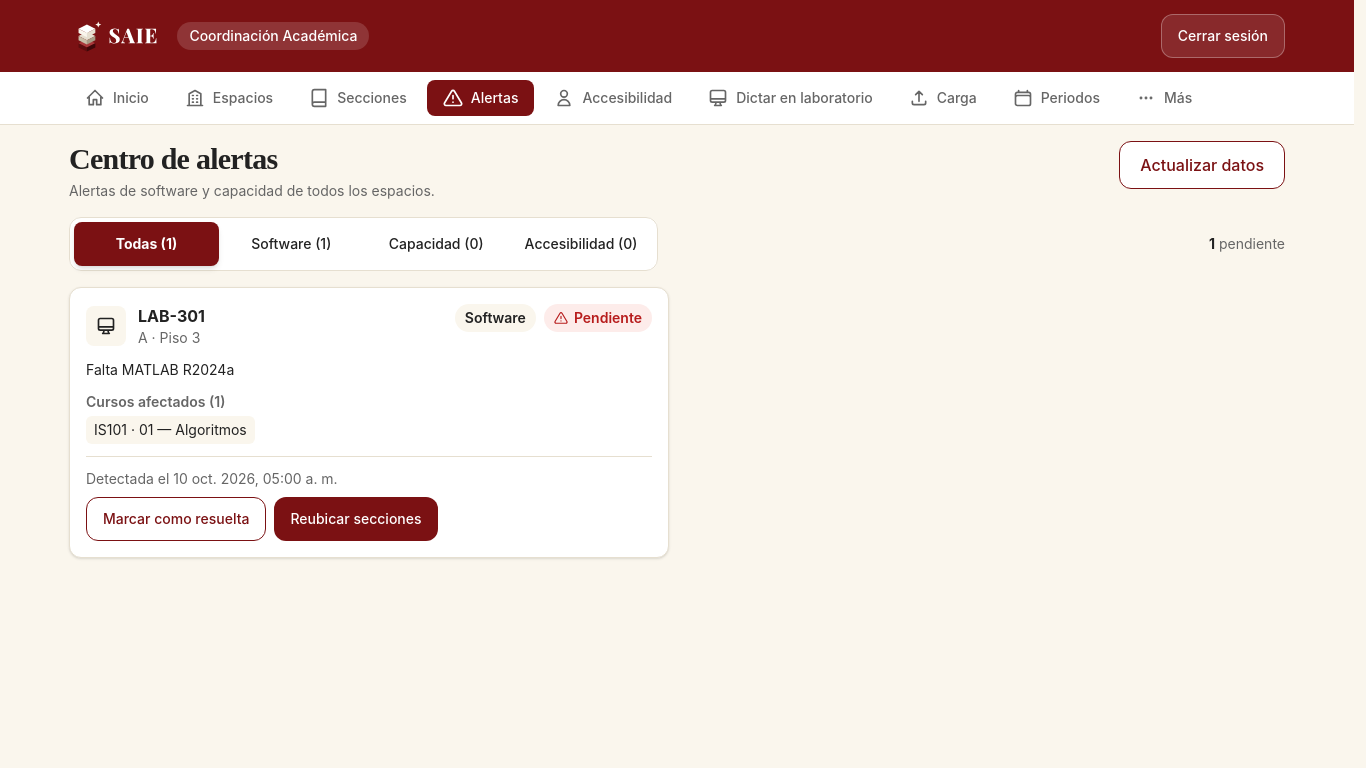
Test: Lista de alertas (Issue 4.10) › reubicar secciones (Issue 2.22) › muestra el error si la reubicación falla
The image size is (1366, 768).
Click the button "Reubicar secciones": (356, 519) [274,497,438,541]
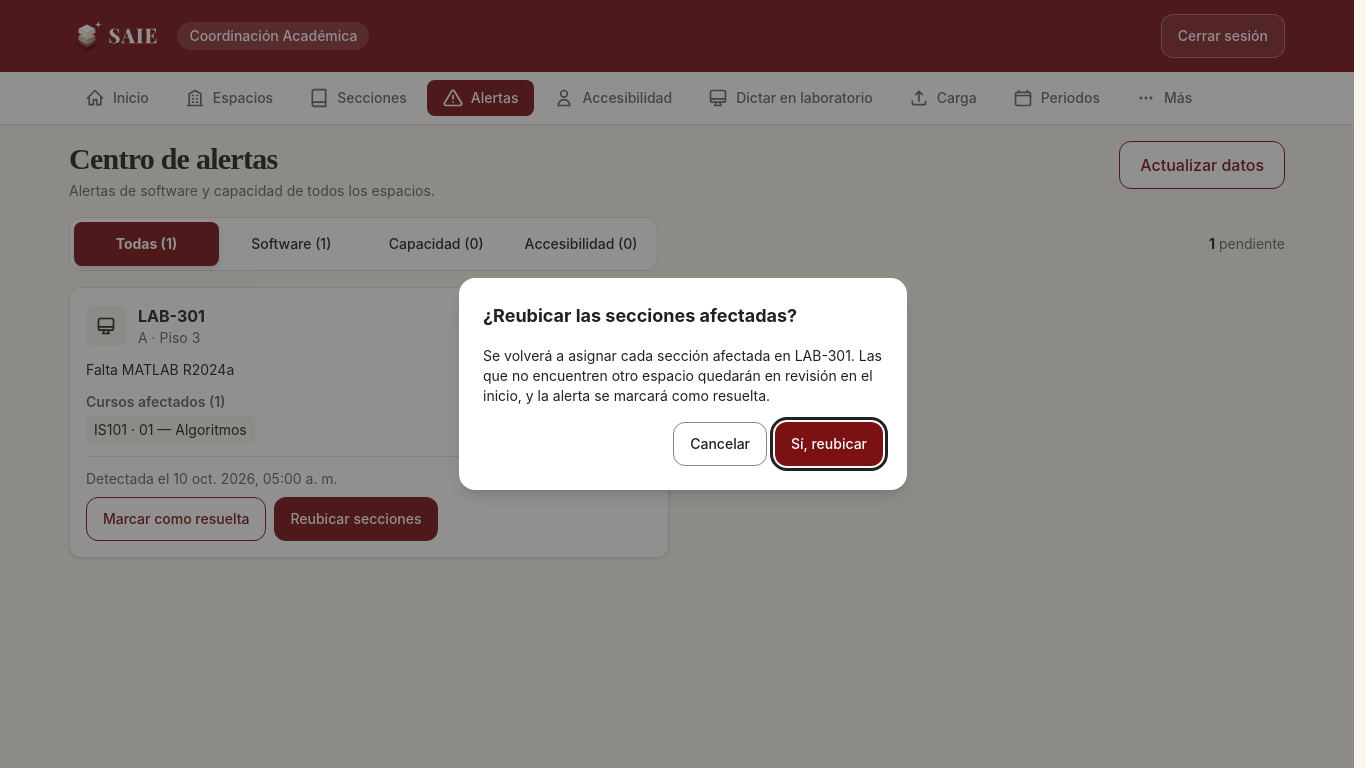
Click the button "Sí, reubicar": (829, 444) [775,422,883,466]
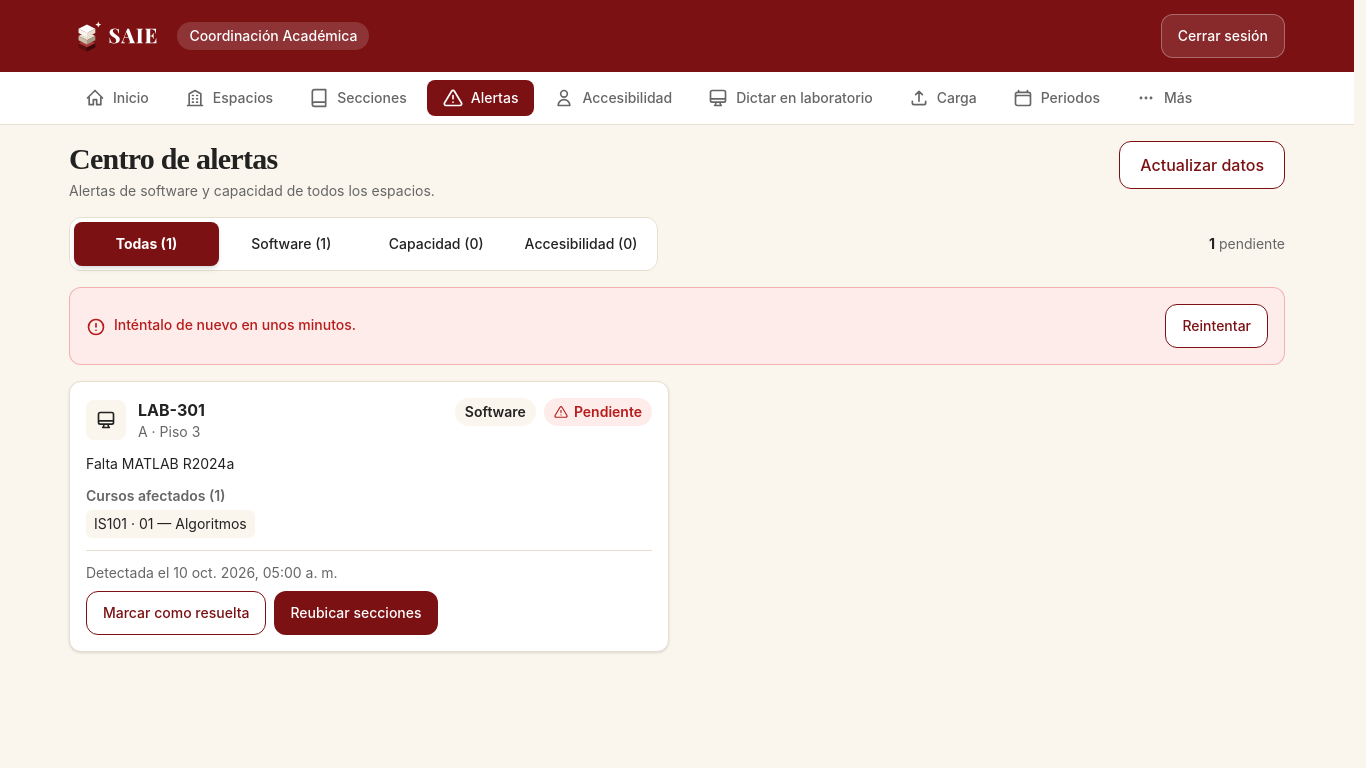
Expected: the element named "Alerta de software en LAB-301" is shown, [69,381,669,652]
Expected: the button "Reintentar" is shown, [1166,304,1268,348]
